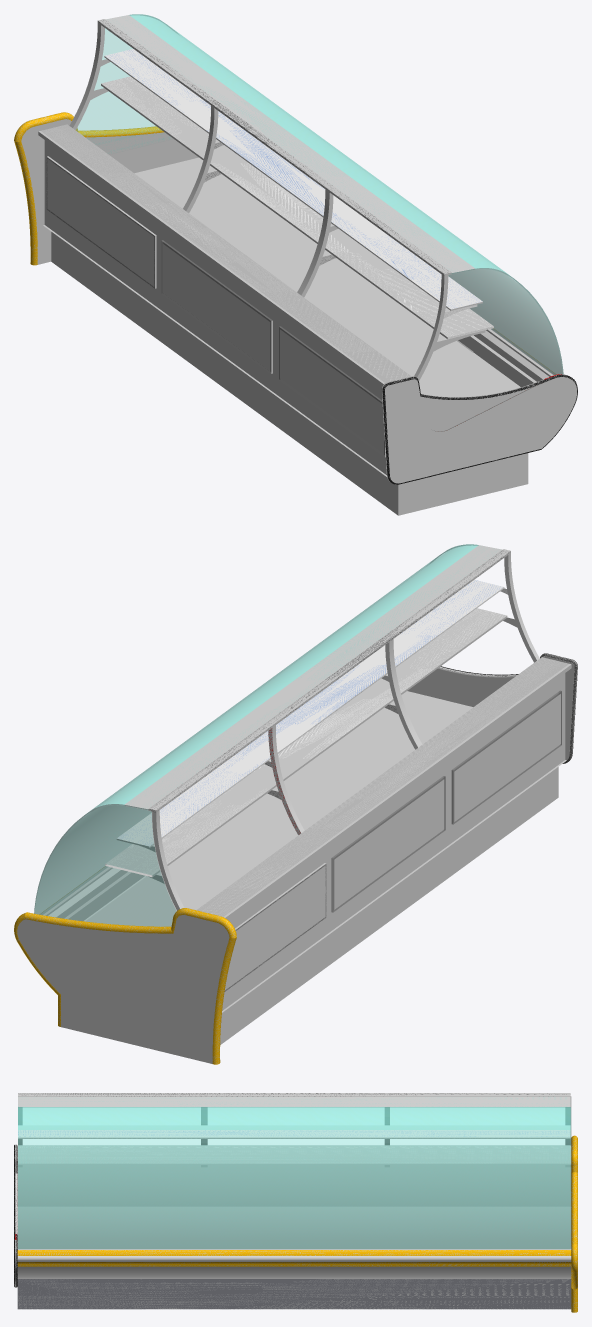
Rendered from refridgerator.dae.
3 renders of one model, top to bottom at view 1: azimuth 30°, elevation 25°; view 2: azimuth 150°, elevation 25°; view 3: azimuth 270°, elevation 25°, orthographic. The views are drawn at different scales.
Visible parts, largest first — view 1: Supermarket_cabinet (×27); view 2: Supermarket_cabinet (×21); view 3: Supermarket_cabinet (×19).
Boxes of the visible parts, left/top/right/bottom form: Supermarket_cabinet (×27): left=14, top=14, right=577, bottom=515; Supermarket_cabinet (×21): left=14, top=544, right=577, bottom=1064; Supermarket_cabinet (×19): left=17, top=1093, right=577, bottom=1312.
Bounding box in the file's own units: 122 × 346 × 124.
Materials: 19 (1 with a texture image).
